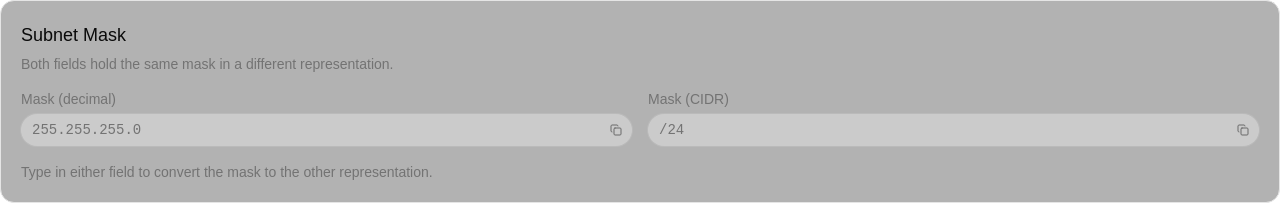
Scenario: MaskSection › handles the shortest and longest prefixes
The image size is (1280, 220).
Type "/0" into the field labelled "Mask (CIDR)" at point(940, 130), box [649,114,1231,146]
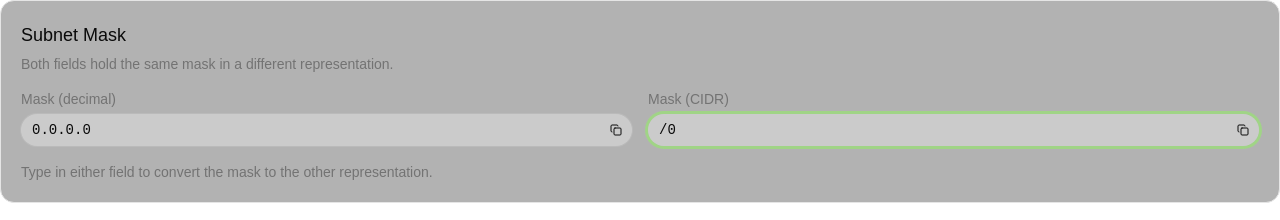
Now the field labelled "Mask (decimal)" holds "0.0.0.0", box [22,114,604,146]
Replace the text in the field labelled "Mask (CIDR)" with "/32" at point(940, 130), box [649,114,1231,146]
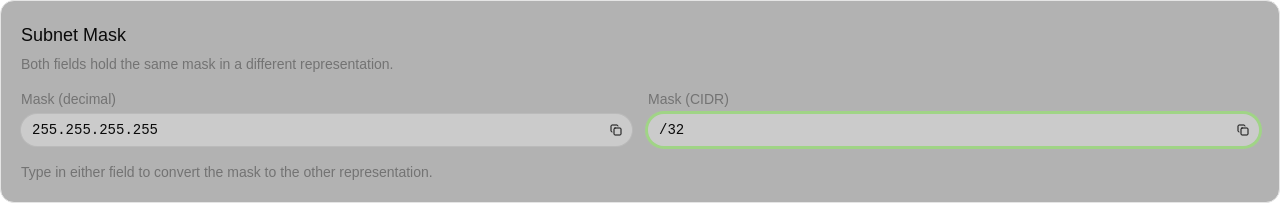
Now the field labelled "Mask (decimal)" holds "255.255.255.255", box [22,114,604,146]
